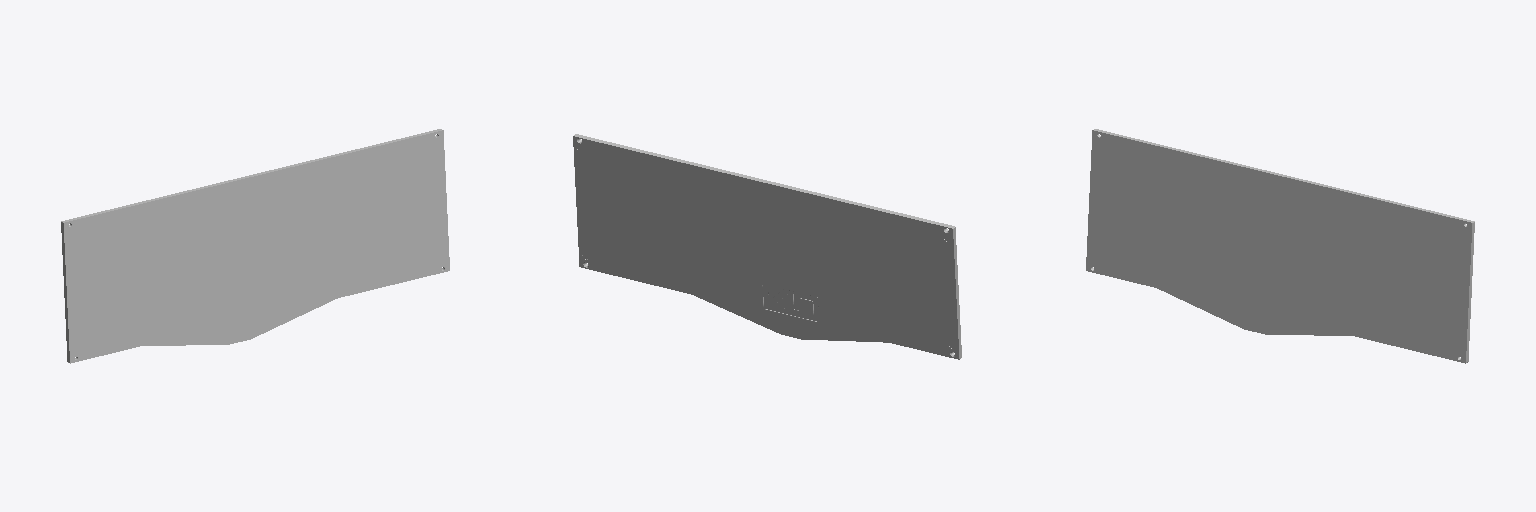
File: Base render.obj
3 renders of one model, left to right at view 1: azimuth 30°, elevation 25°; view 2: azimuth 150°, elevation 25°; view 3: azimuth 330°, elevation 25°, orthographic.
Visible parts, largest first — view 1: Part__Feature; view 2: Part__Feature; view 3: Part__Feature.
Part boxes in pixels (left/top/right/bottom): Part__Feature: left=61, top=129, right=449, bottom=363; Part__Feature: left=573, top=134, right=961, bottom=359; Part__Feature: left=1086, top=129, right=1474, bottom=363.
Bounding box in the file's own units: 356 × 139 × 16.34.